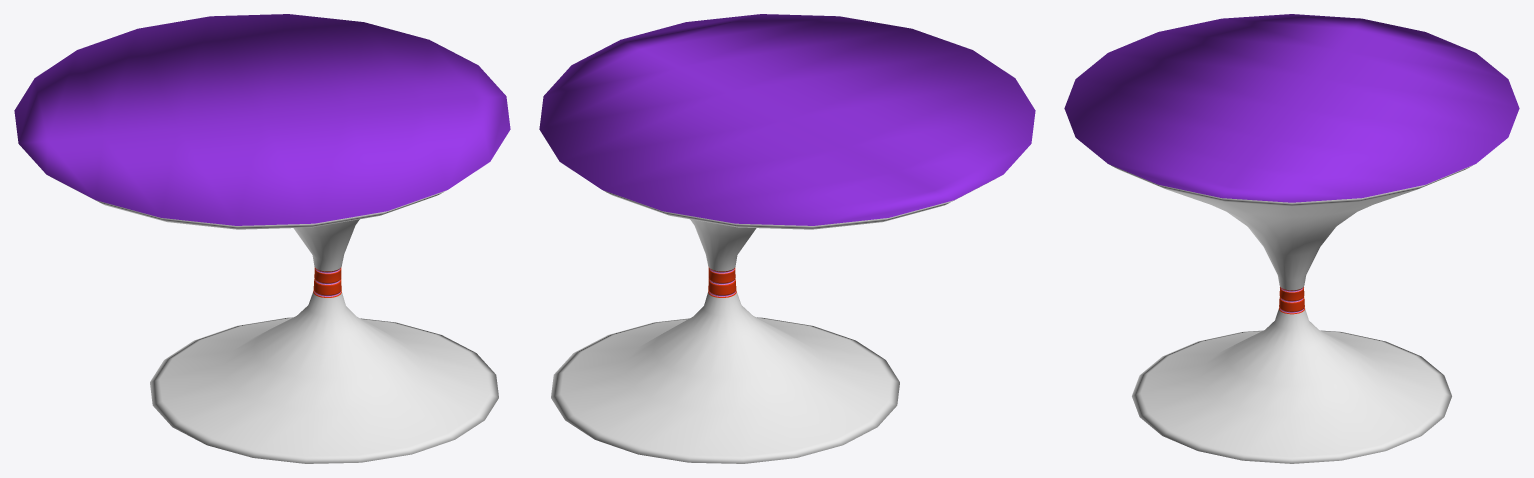
Rendered from MesaChL1.fbx.
3 views of the same model, side by side, from view 1: azimuth 30°, elevation 25°; view 2: azimuth 150°, elevation 25°; view 3: azimuth 270°, elevation 25° (orthographic). The views are drawn at different scales.
Parts seen in each view (by area): view 1: MesaChL1; view 2: MesaChL1; view 3: MesaChL1.
Part boxes in pixels (x1,y1,x2,y2): MesaChL1: (14,14,510,463); MesaChL1: (539,14,1035,463); MesaChL1: (1064,14,1519,463).
Size of the model in its own units: 136 by 86.34 by 136.
